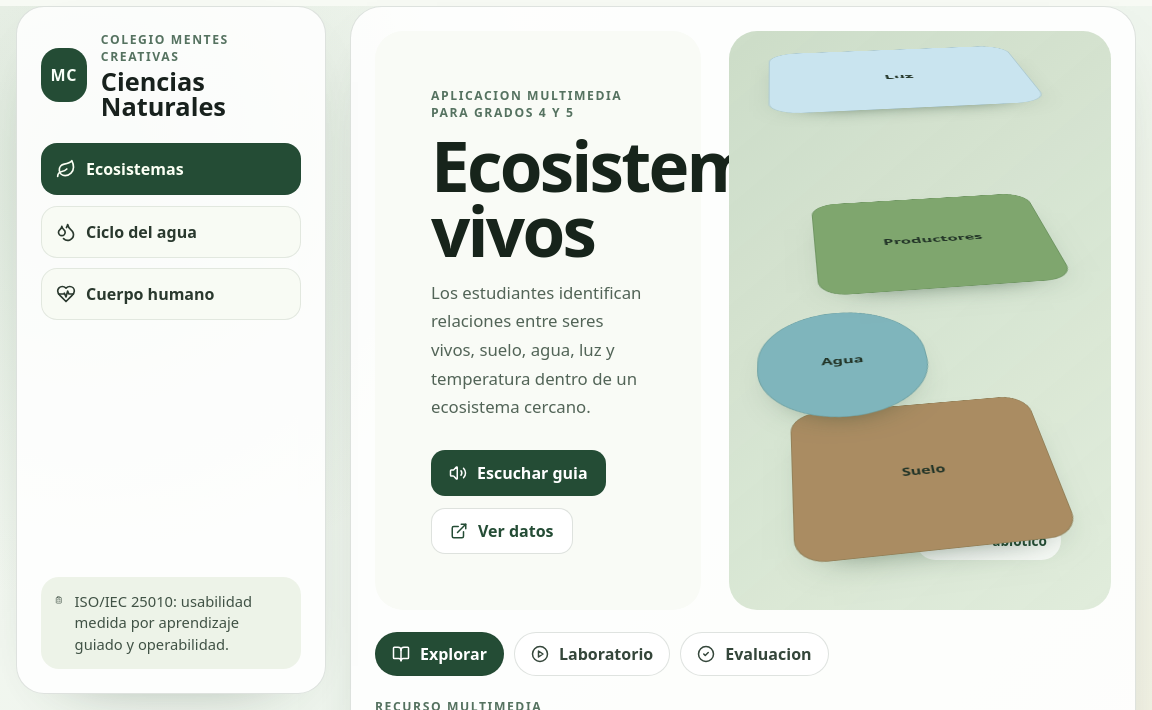
Mentes Creativas Ciencias Naturales › permite cambiar de tema y resolver una pregunta
The image size is (1152, 710).
Click the button "Ciclo del agua" at (171, 232), box [41,206,301,258]
(page scrolled)
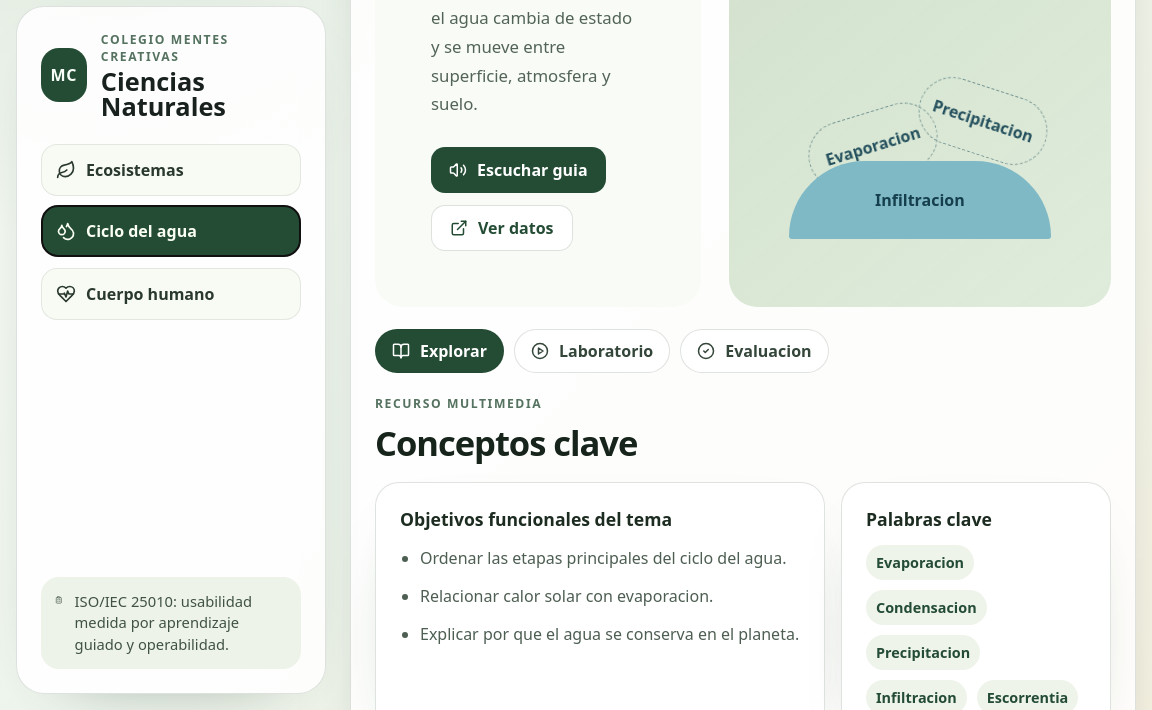
Click the tab "Evaluacion" at (754, 351), box [680,329,829,373]
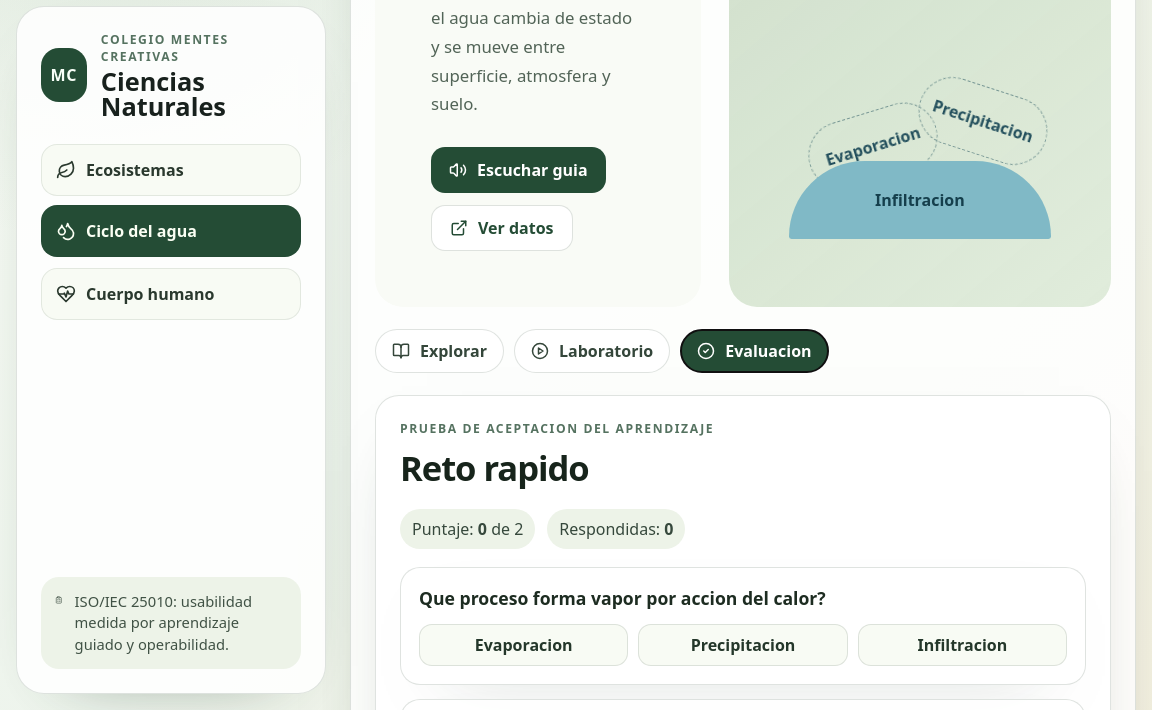
Click the button "Evaporacion" at (524, 645), box [419,624,628,666]
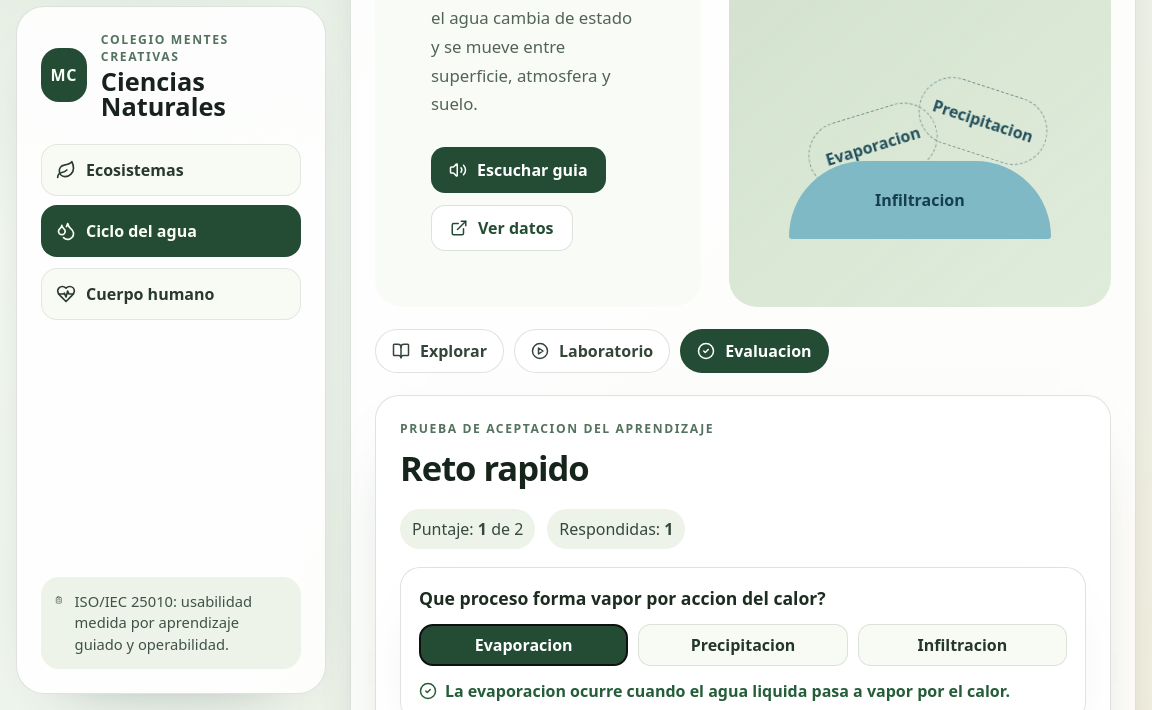
Expected: the text "Puntaje: 1 de 2" is shown, [400,509,535,549]
Expected: the text "La evaporacion ocurre cuando el agua liquida pasa a vapor por el calor." is shown, [419,680,1067,703]
